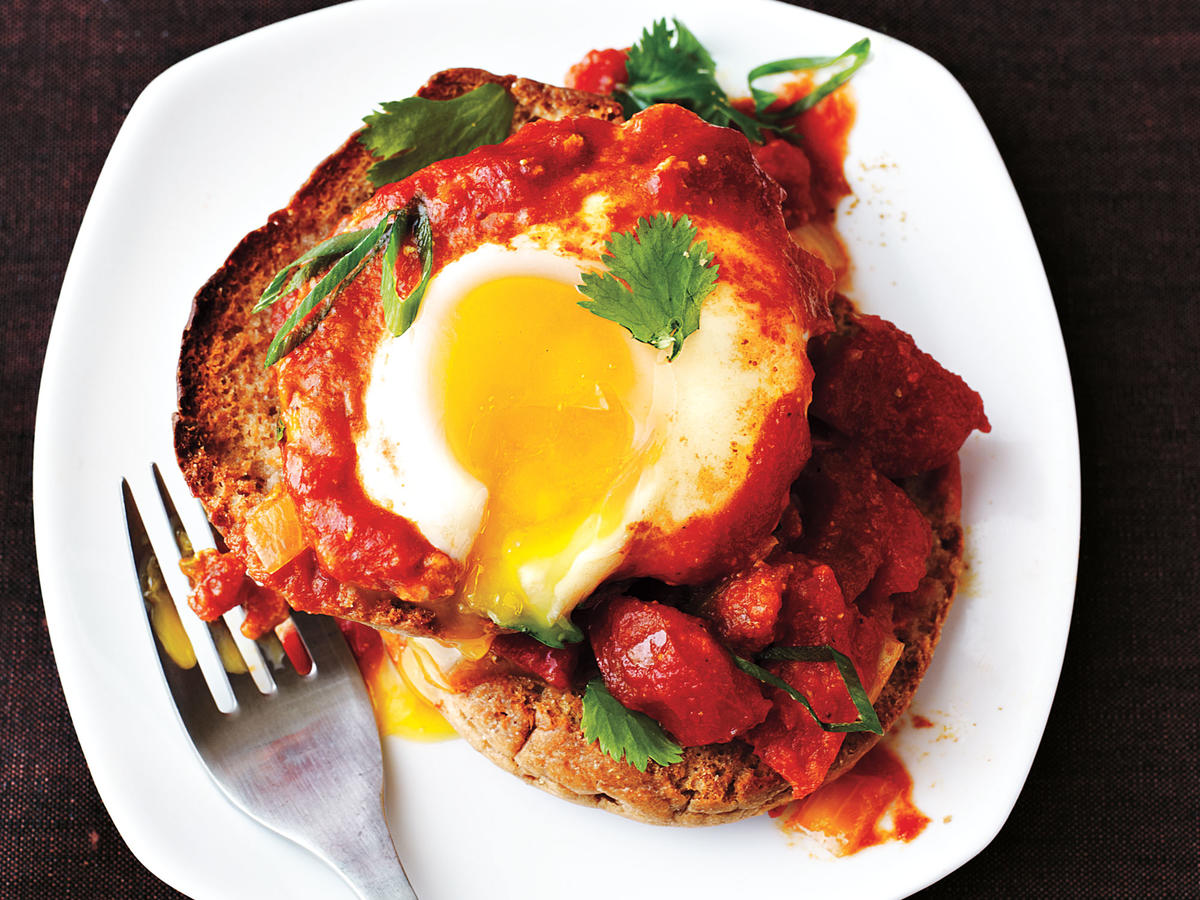fried egg: (320, 253, 763, 522)
slice of bread: (478, 713, 981, 819)
